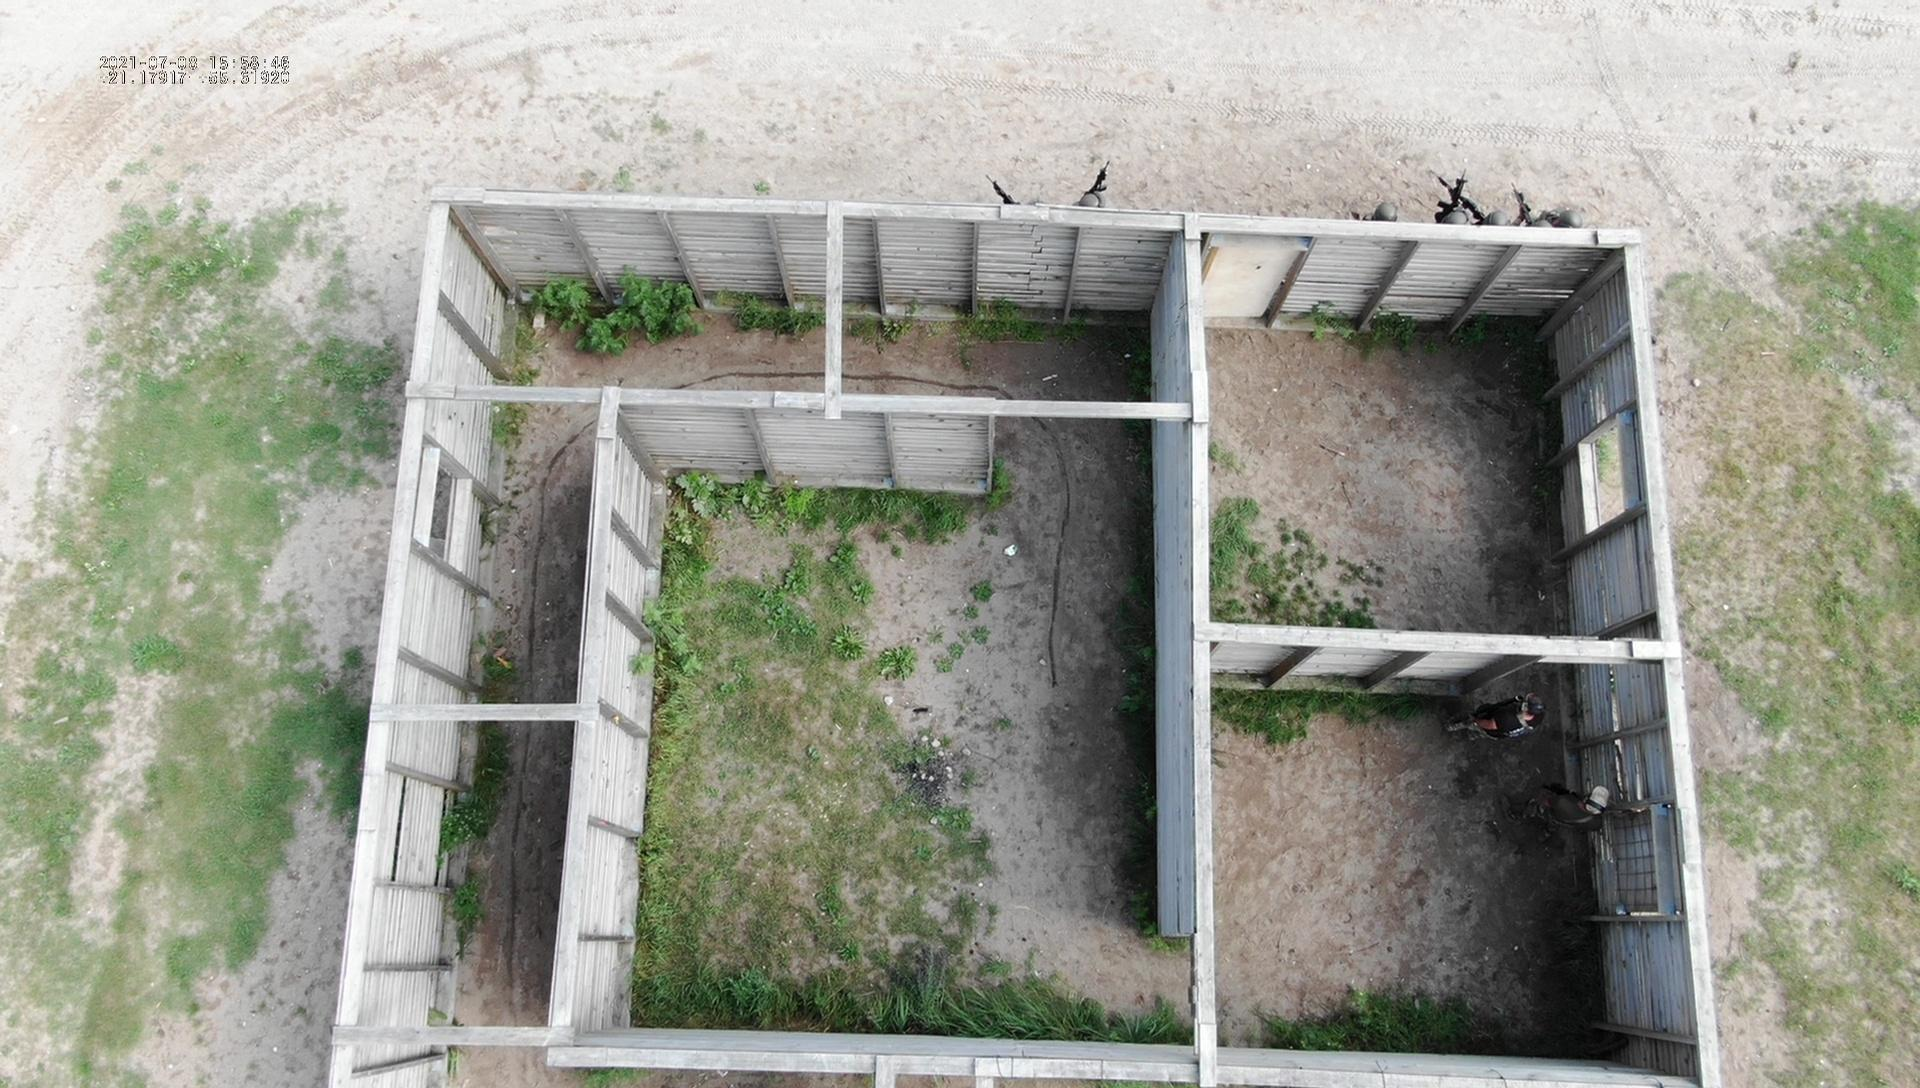Soldier: (1487, 771, 1607, 876), (1460, 683, 1549, 793), (1077, 148, 1124, 218), (1531, 198, 1594, 243), (1435, 171, 1469, 233), (1472, 179, 1507, 236)
